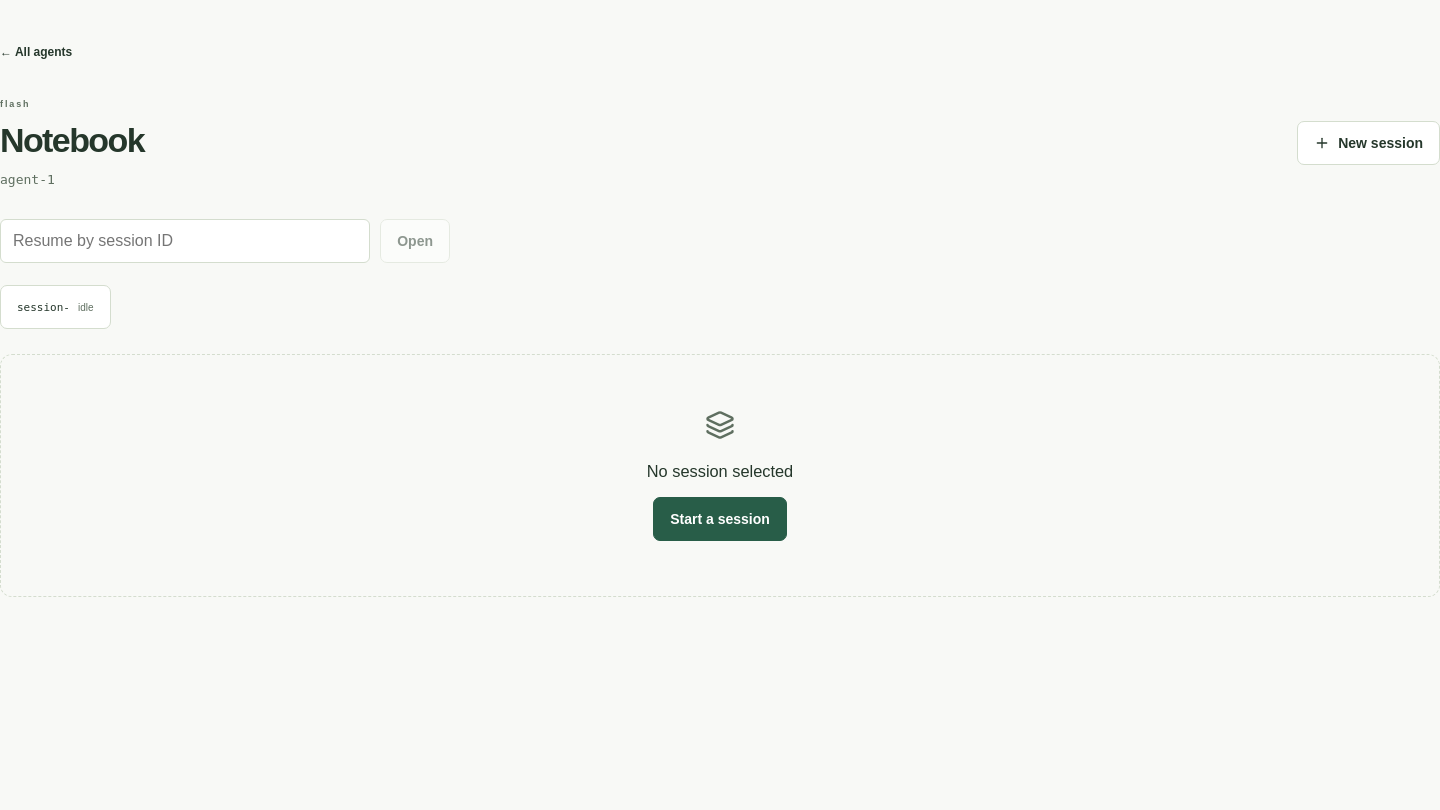
Test: Responses conversation › shows pending local functions without executing or accepting ordinary user input
Click the button "session- idle".
click(55, 307)  # box 0,285 -> 111,329
(page scrolled)
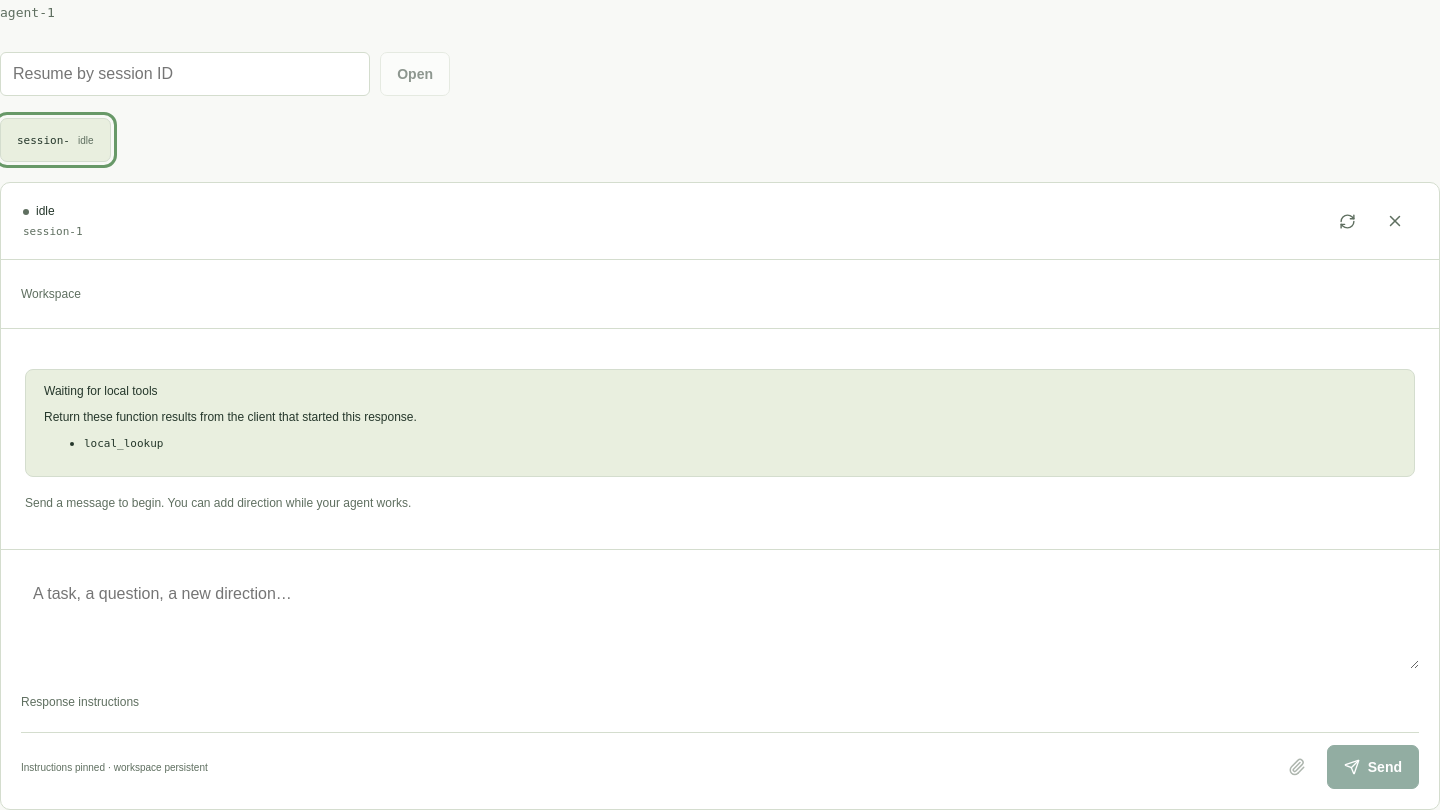
Result: the text "Waiting for local tools" is shown at 44,384 -> 158,398
Result: the text "local_lookup" is shown at 84,437 -> 164,450
Result: the text box named "Message or steering instruction" is disabled at 21,570 -> 1419,669
